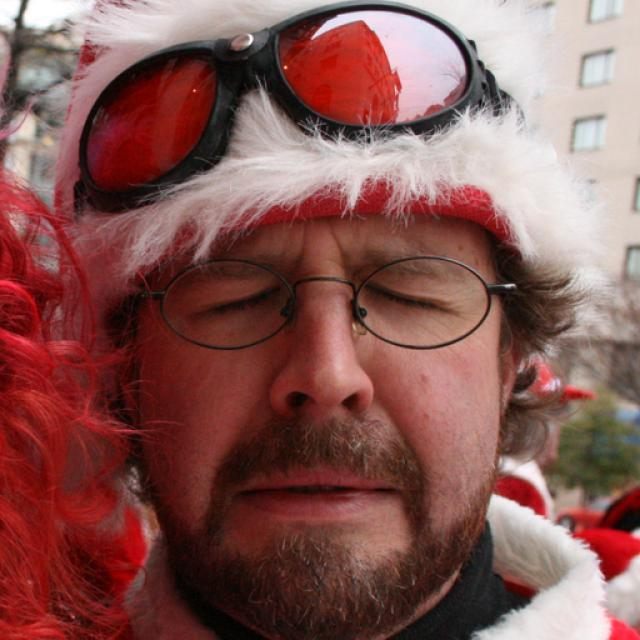sad: (137, 99, 503, 639)
